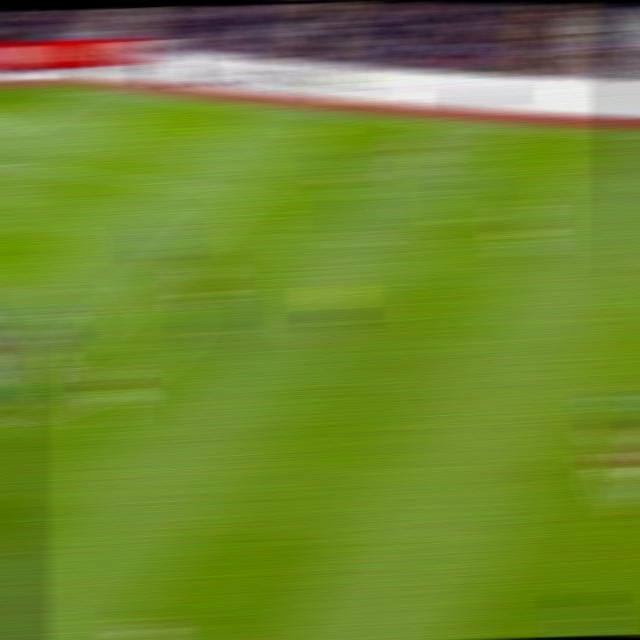bigarea_top_inner: (221, 178, 267, 206)
corner: (58, 82, 105, 99)
top_arc_area_intersection: (123, 268, 167, 295)
